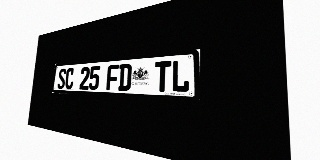2: (79, 67, 90, 90)
5: (89, 66, 100, 90)
C: (65, 68, 75, 89)
D: (118, 63, 132, 91)
F: (106, 64, 119, 91)
L: (171, 59, 190, 93)
S: (57, 68, 66, 89)
T: (154, 61, 171, 92)
